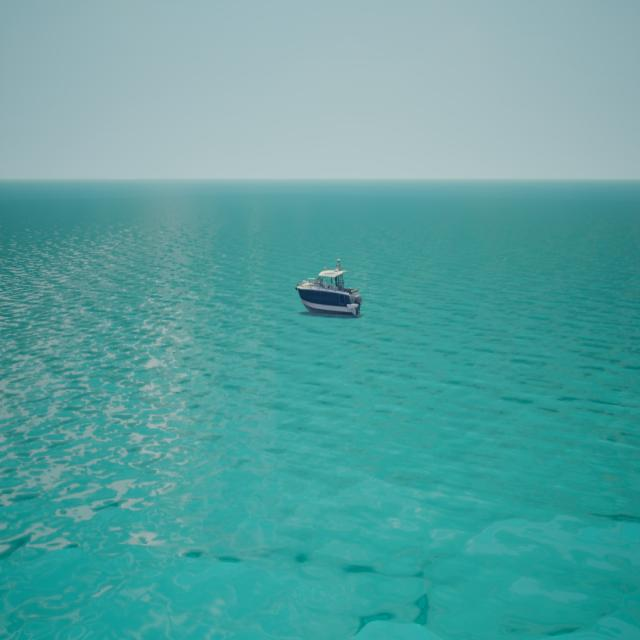ship: (295, 257, 363, 317)
